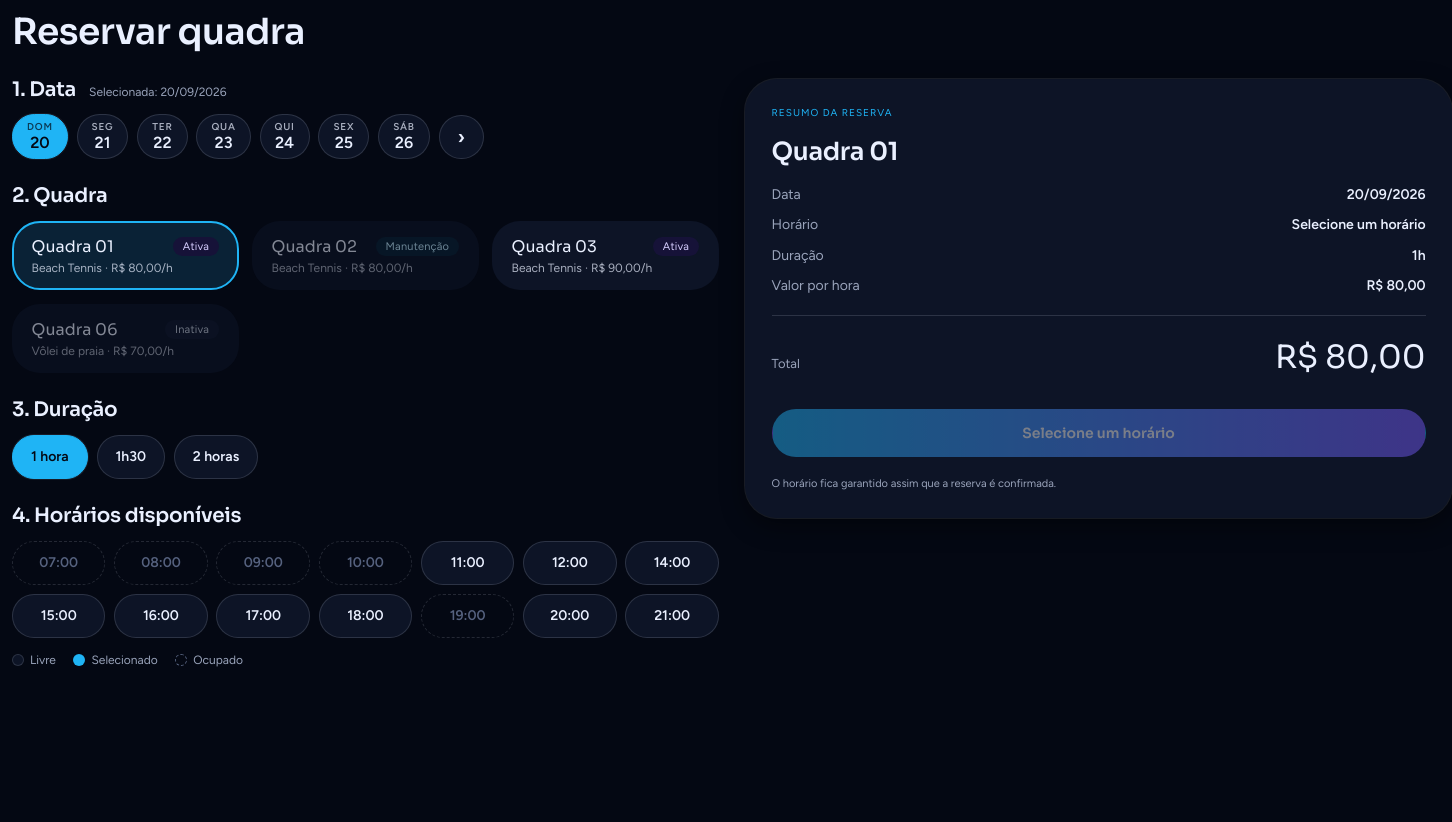
Test: ReservarPage › seleciona a primeira quadra ativa e explica quadras e horários indisponíveis
Check: the heading "Quadra 01" is shown, box [772, 136, 898, 167]
Check: the text "Selecionada: 20/09/2026" is shown, box [89, 83, 226, 101]
Click the button "Quadra 02 Manutenção Beach Tennis · R$ 80,00/h".
click(365, 256)  # box [252, 221, 479, 290]
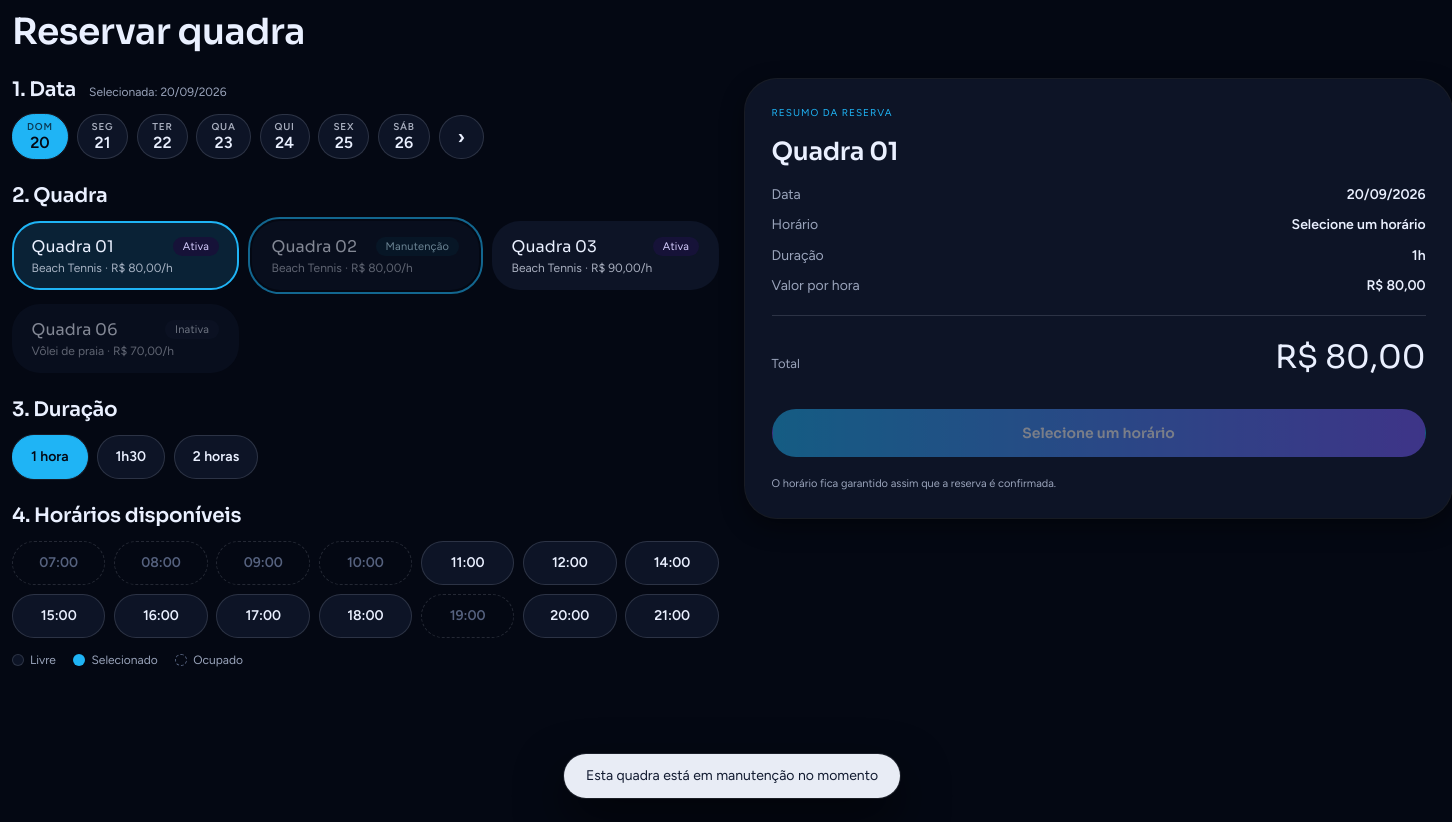
Check: the text "Esta quadra está em manutenção no momento" is shown, box [564, 754, 900, 798]
Click the button "19:00".
click(468, 616)  # box [421, 594, 514, 638]
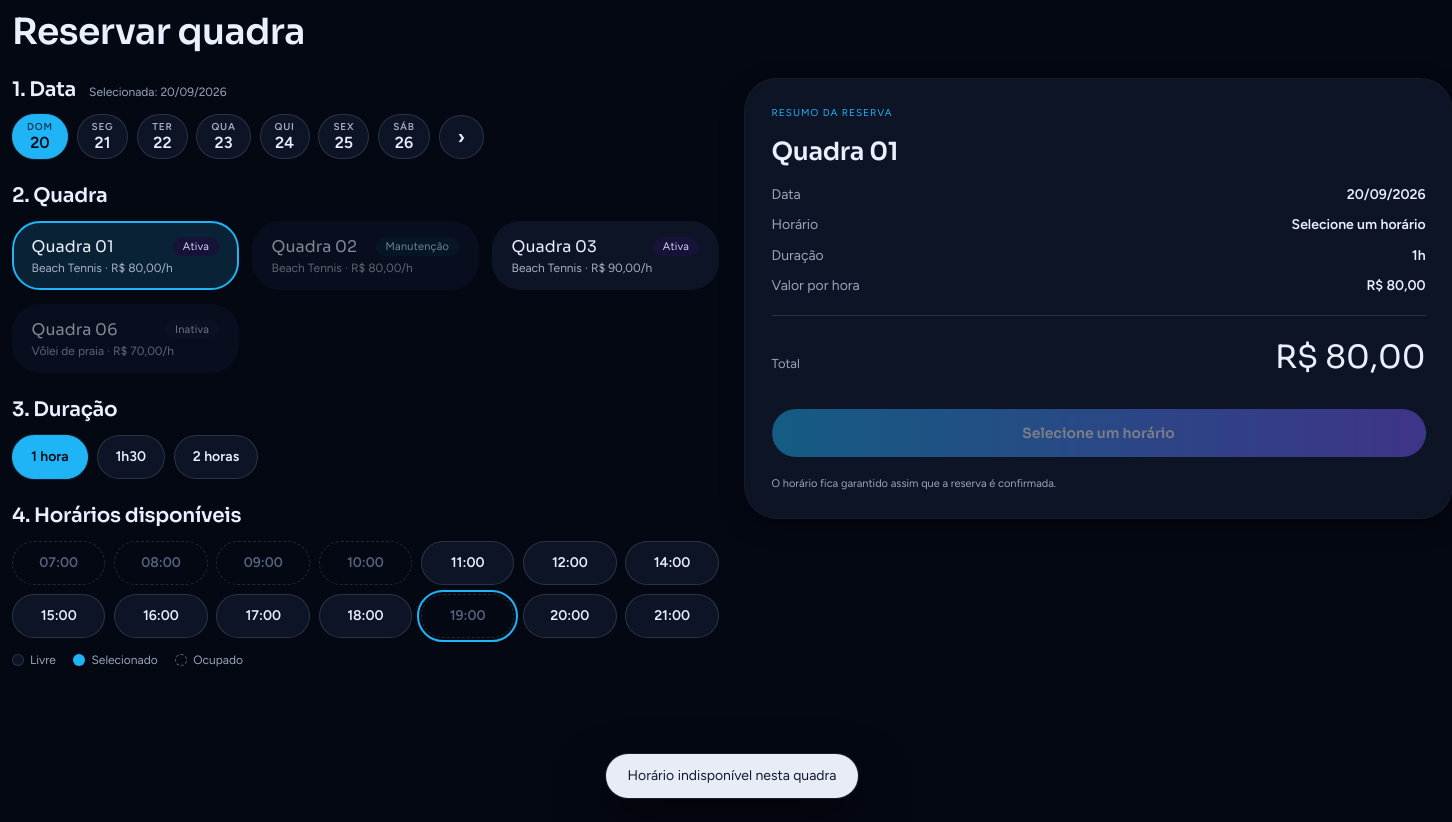
Check: the text "Horário indisponível nesta quadra" is shown, box [606, 754, 858, 798]
Click the button "09:00".
click(263, 563)  # box [216, 541, 310, 585]
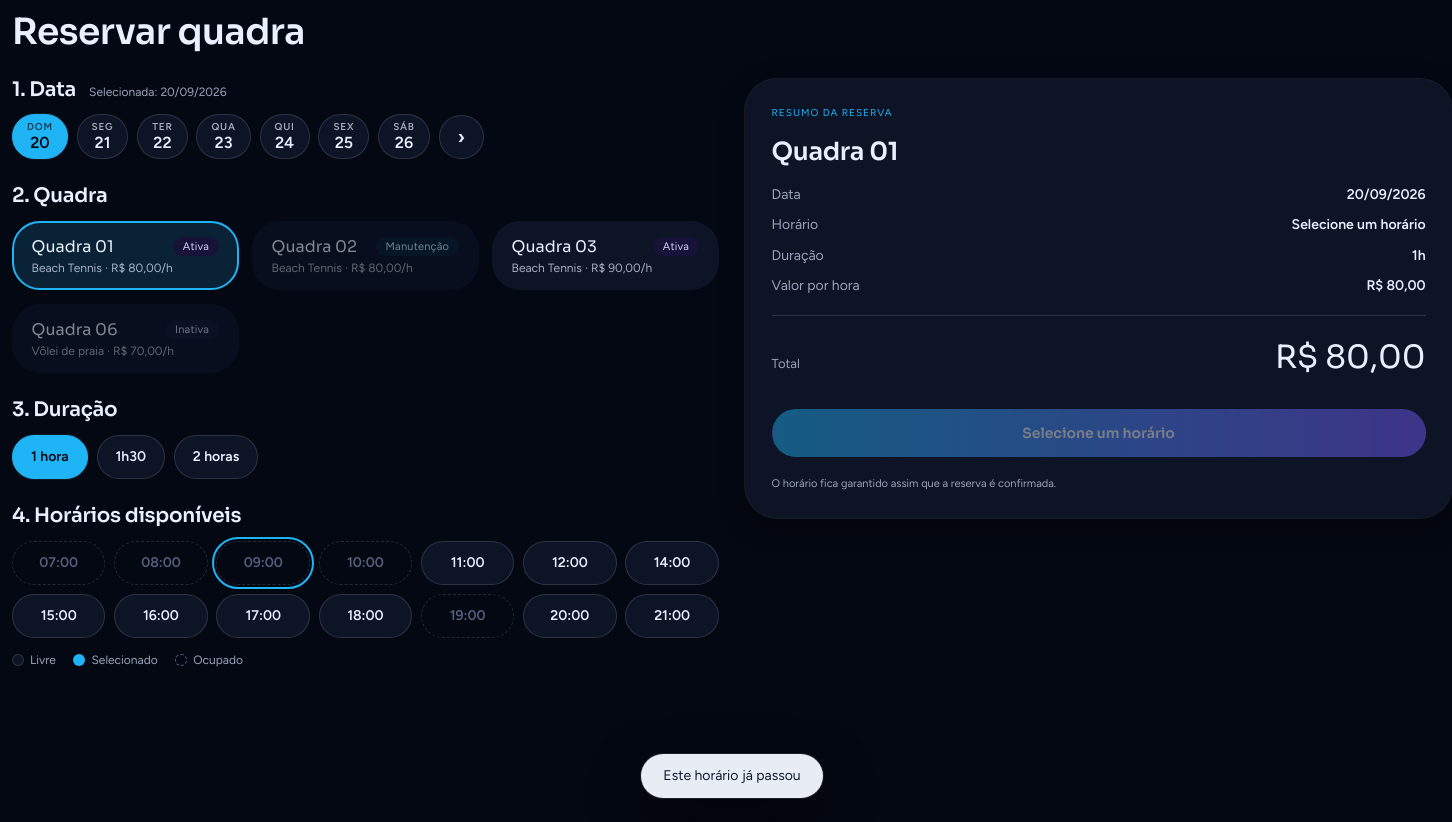
Check: the button "Selecione um horário" is shown, box [772, 409, 1426, 457]
Check: the text "Este horário já passou" is shown, box [641, 754, 823, 798]
